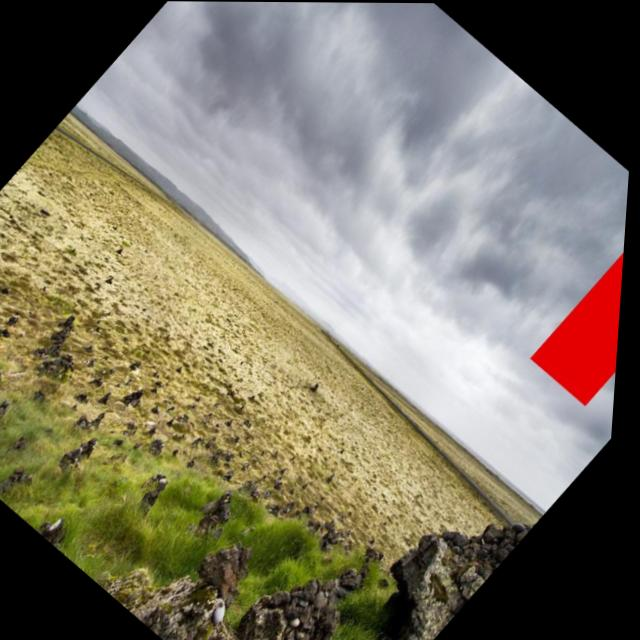RedSquare: (517, 236, 628, 421)
